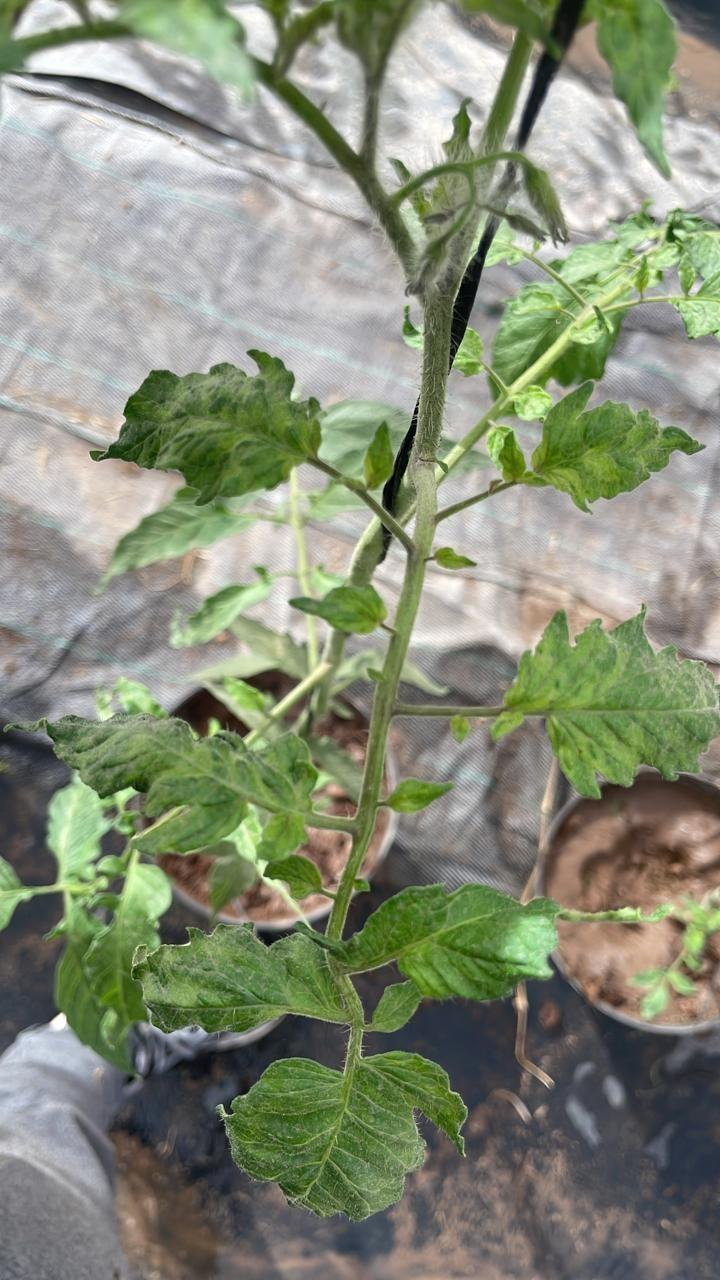Hoja rugoso: (487, 612, 719, 802), (217, 1052, 466, 1222), (48, 715, 318, 859), (92, 350, 322, 504), (322, 885, 560, 999), (135, 925, 350, 1032), (532, 384, 702, 510)
Pedunculo rugoso: (325, 548, 425, 939), (408, 262, 463, 495)
